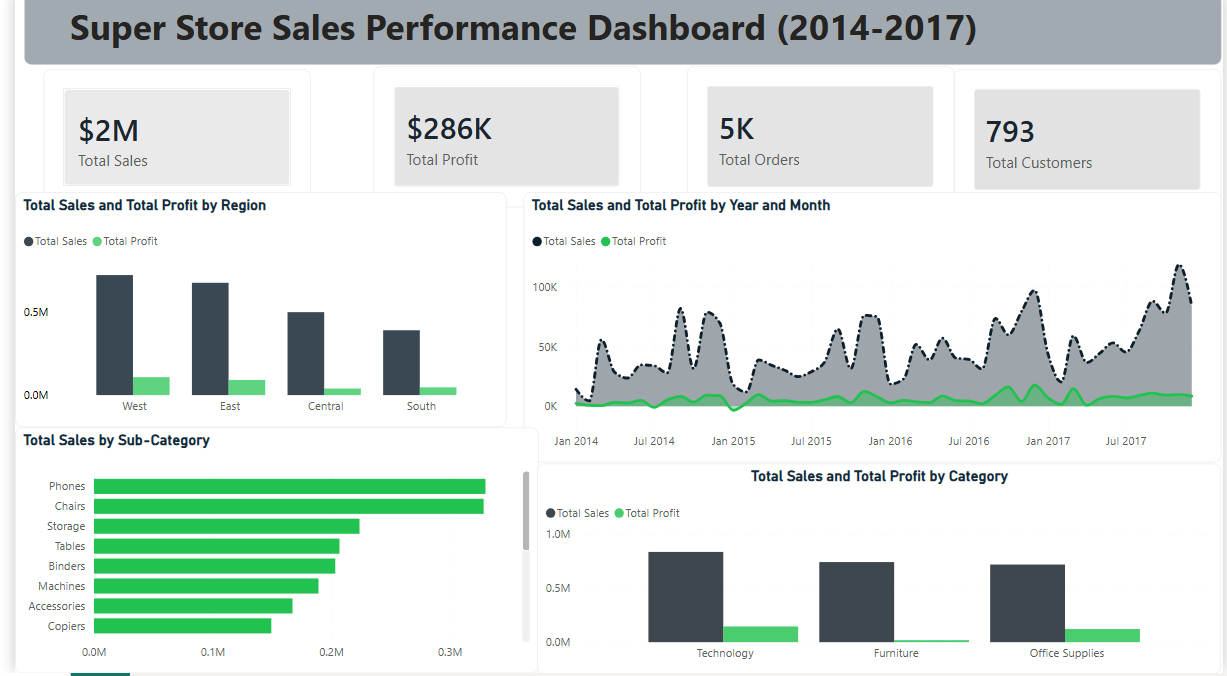

Layout of this report page (visuals, bound fields, positions):
{"tool":"powerbi","page":{"name":"Page 1","canvas":[1280,720],"ordinal":0},"visuals":[{"type":"textbox","box":[9.4,0,1269.9,75.6],"z":0},{"type":"cardVisual","fields":{"Data":["Orders.Total Sales"]},"box":[30.2,79.4,283.5,145.5],"z":1},{"type":"cardVisual","fields":{"Data":["Orders.Total Profit"]},"box":[379.8,75.6,283,150],"z":2},{"type":"cardVisual","fields":{"Data":["Orders.Total Orders"]},"box":[712.5,76.1,283,150],"z":3},{"type":"cardVisual","fields":{"Data":["Orders.Total Customers"]},"box":[995.8,79.3,283,150],"z":4},{"type":"clusteredColumnChart","fields":{"Category":["Orders.Region"],"Y":["Orders.Total Sales","Orders.Total Profit"]},"box":[0,210.5,521.4,249.4],"z":5},{"type":"areaChart","fields":{"Y":["Orders.Total Sales","Orders.Total Profit"],"Category":["Orders.Order Date.Variation.Date Hierarchy.Year","Orders.Order Date.Variation.Date Hierarchy.Month"]},"box":[539.2,210.5,740,286.6],"z":6},{"type":"clusteredBarChart","fields":{"Y":["Orders.Total Sales"],"Category":["Orders.Sub-Category"]},"box":[0,459.9,555.4,260.7],"z":7},{"type":"clusteredColumnChart","fields":{"Category":["Orders.Category"],"Y":["Orders.Total Sales","Orders.Total Profit"]},"box":[553.8,497.1,725.4,223.5],"z":8}]}

Visuals, with their boxes in screenshot pixels (x1, y1, x2, y2), scaled from the page's 1280x720 canvas onto the 1227x676 screenshot:
textbox: crop(9, 0, 1226, 71)
cardVisual - Orders.Total Sales: crop(29, 75, 301, 211)
cardVisual - Orders.Total Profit: crop(364, 71, 635, 212)
cardVisual - Orders.Total Orders: crop(683, 71, 954, 212)
cardVisual - Orders.Total Customers: crop(955, 74, 1226, 215)
clusteredColumnChart - Orders.Region x Orders.Total Sales: crop(0, 198, 500, 432)
areaChart - Orders.Total Sales x Orders.Total Profit: crop(517, 198, 1226, 467)
clusteredBarChart - Orders.Total Sales x Orders.Sub-Category: crop(0, 432, 532, 675)
clusteredColumnChart - Orders.Category x Orders.Total Sales: crop(531, 467, 1226, 675)
